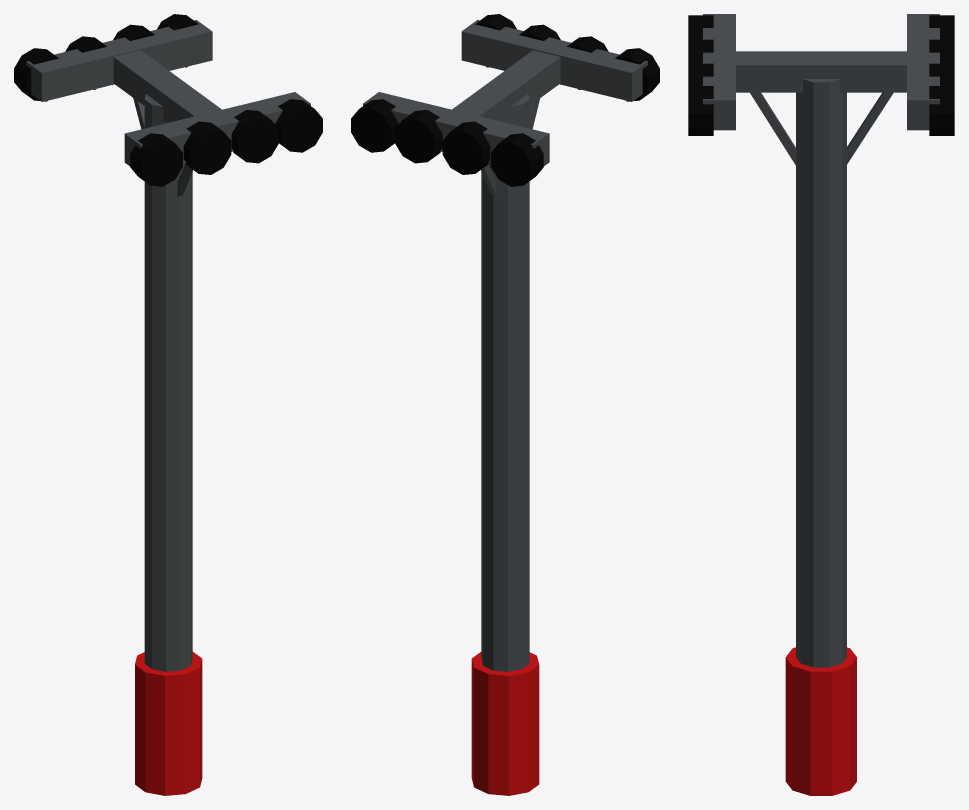
The model's file is poteau.obj.
The picture shows the model from 3 angles, left to right: view 1: azimuth 30°, elevation 25°; view 2: azimuth 150°, elevation 25°; view 3: azimuth 270°, elevation 25°; orthographic projection. The views are drawn at different scales.
Parts seen in each view (by area): view 1: Poteau, Pied, bras_latéral_1, Bras_central, bras_latéral_2, Roue.005, Roue.006, Roue.007, Roue.008, Roue.004; view 2: Poteau, Pied, bras_latéral_2, Bras_central, bras_latéral_1, Roue.004, Roue.002, Roue.001, Roue, Roue.005; view 3: Poteau, Pied, Bras_central, bras_latéral_1, bras_latéral_2, Roue, Roue.008, support, support.001, Roue.002, Roue.006, Roue.004 (+3 smaller).
Boxes of the visible parts, <box> form: Poteau: <box>144,94,192,671</box>; Pied: <box>135,652,202,795</box>; bras_latéral_1: <box>26,20,212,101</box>; Bras_central: <box>113,50,221,122</box>; bras_latéral_2: <box>124,92,310,166</box>; Roue.005: <box>130,133,182,186</box>; Roue.006: <box>183,121,231,174</box>; Roue.007: <box>231,110,278,163</box>; Roue.008: <box>275,99,322,152</box>; Roue.004: <box>14,48,58,101</box>; Poteau: <box>481,94,529,671</box>; Pied: <box>471,652,539,795</box>; bras_latéral_2: <box>461,20,647,101</box>; Bras_central: <box>452,50,560,122</box>; bras_latéral_1: <box>363,92,549,166</box>; Roue.004: <box>491,133,543,186</box>; Roue.002: <box>442,121,490,174</box>; Roue.001: <box>394,110,442,163</box>; Roue: <box>351,99,398,152</box>; Roue.005: <box>615,48,659,101</box>; Poteau: <box>796,79,846,667</box>; Pied: <box>785,647,856,795</box>; Bras_central: <box>736,51,906,92</box>; bras_latéral_1: <box>907,14,939,130</box>; bras_latéral_2: <box>703,14,735,130</box>; Roue: <box>929,86,954,135</box>; Roue.008: <box>688,86,713,135</box>; support: <box>750,92,796,166</box>; support.001: <box>846,92,893,165</box>; Roue.002: <box>929,39,954,63</box>; Roue.006: <box>688,39,713,63</box>; Roue.004: <box>929,15,954,39</box>.
Size of the model in its own units: 4.23 by 15.77 by 5.23.
